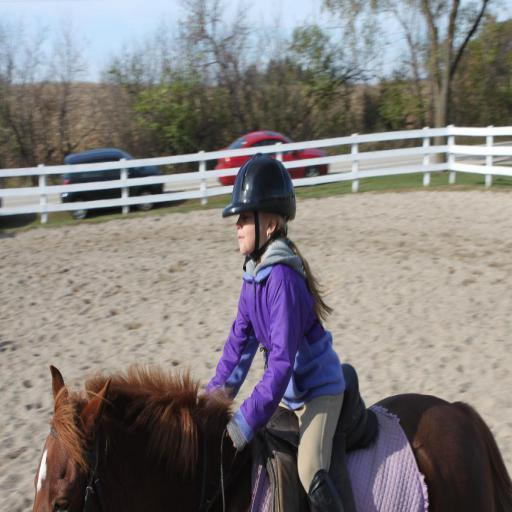horse: (31, 362, 512, 512)
